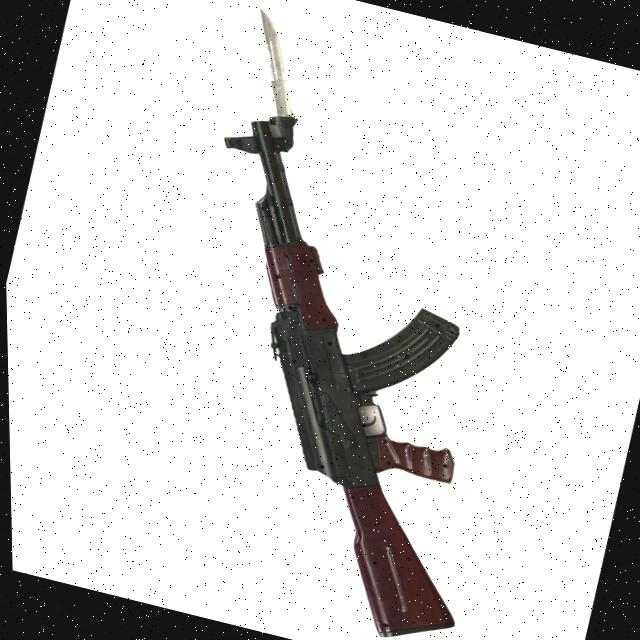firearm: (112, 99, 565, 640)
knife: (225, 0, 326, 143)
